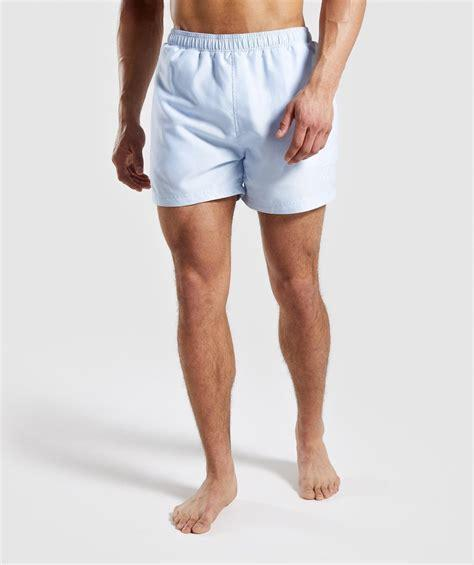short: (150, 26, 328, 216)
